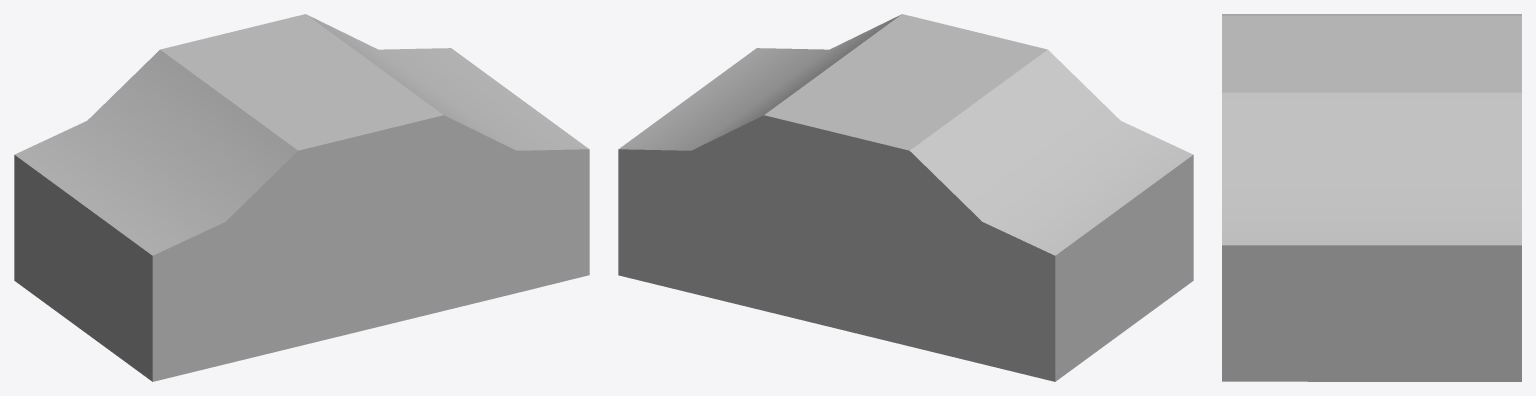
The model's file is Itr_Obj_Grandfatherclock2_Top_06.FBX.
3 renders of one model, left to right at view 1: azimuth 30°, elevation 25°; view 2: azimuth 150°, elevation 25°; view 3: azimuth 270°, elevation 25°, orthographic. The views are drawn at different scales.
Visible parts, largest first — view 1: Itr_Obj_Grandfatherclock2_Top_06; view 2: Itr_Obj_Grandfatherclock2_Top_06; view 3: Itr_Obj_Grandfatherclock2_Top_06.
Boxes of the visible parts, box(x1,y1,x2,y2) form: Itr_Obj_Grandfatherclock2_Top_06: box(14, 14, 589, 381); Itr_Obj_Grandfatherclock2_Top_06: box(618, 14, 1193, 381); Itr_Obj_Grandfatherclock2_Top_06: box(1222, 14, 1521, 381).
Bounding box in the file's own units: 23.74 × 10.17 × 13.01.
